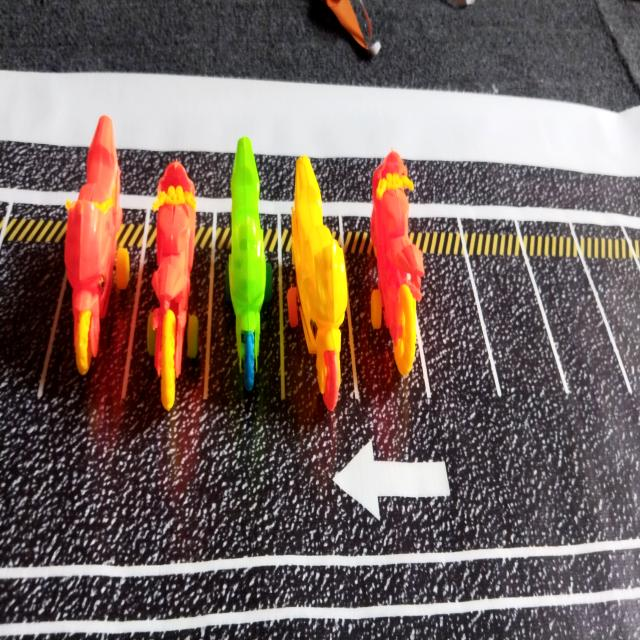occupied: (41, 115, 144, 449), (121, 160, 213, 429), (345, 151, 430, 409), (207, 137, 280, 415), (287, 155, 359, 426)
others: (325, 0, 368, 49)
slots: (531, 259, 630, 419), (470, 256, 563, 395), (418, 256, 487, 403), (0, 242, 65, 395), (588, 260, 640, 394)
